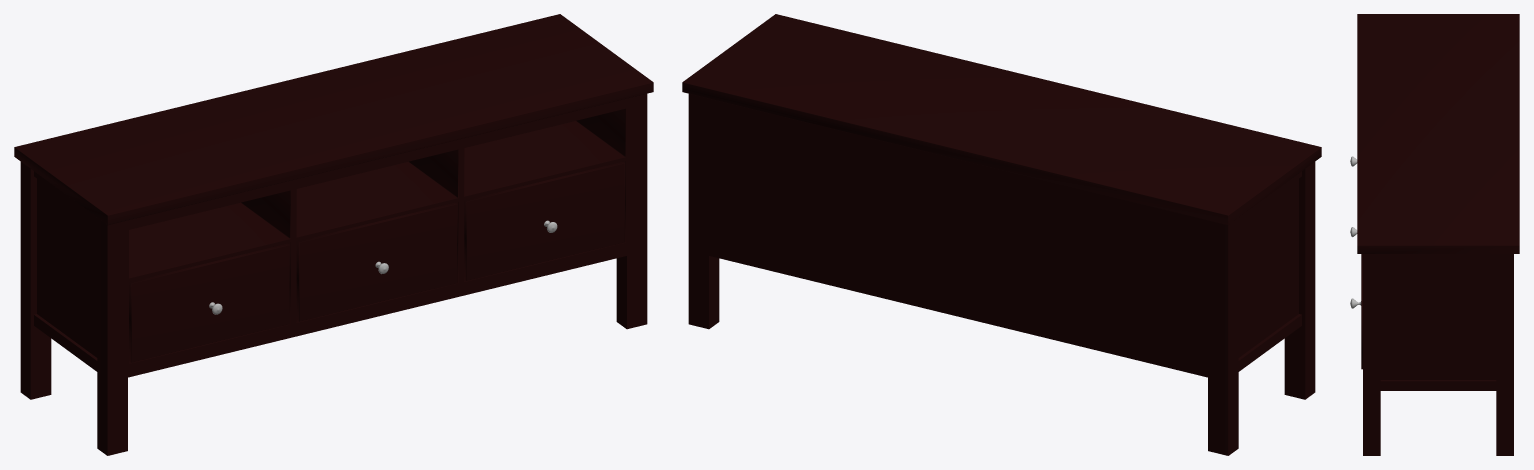
File: ta02_-_mueble_tv.glb
3 views of the same model, side by side, from view 1: azimuth 30°, elevation 25°; view 2: azimuth 150°, elevation 25°; view 3: azimuth 270°, elevation 25° (orthographic). The views are drawn at different scales.
Visible parts, largest first — view 1: Object_3; view 2: Object_3; view 3: Object_3, Object_4.
Boxes of the visible parts, box(x1,y1,x2,y2) form: Object_3: box(14, 14, 653, 455); Object_3: box(682, 14, 1321, 455); Object_3: box(1357, 14, 1519, 455); Object_4: box(1350, 156, 1361, 308).
Bounding box in the file's own units: 82.41 × 35.14 × 25.5.
